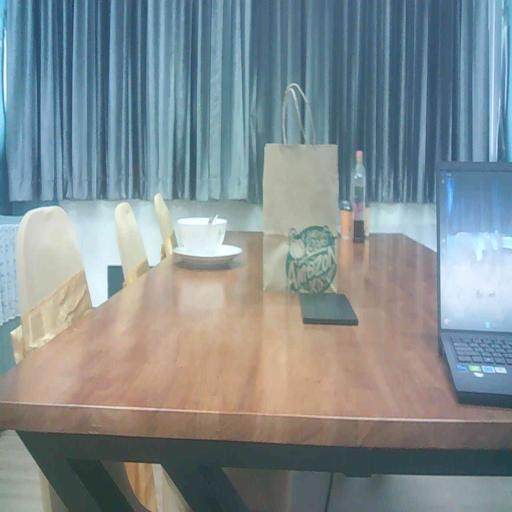bag: (260, 136, 345, 302)
